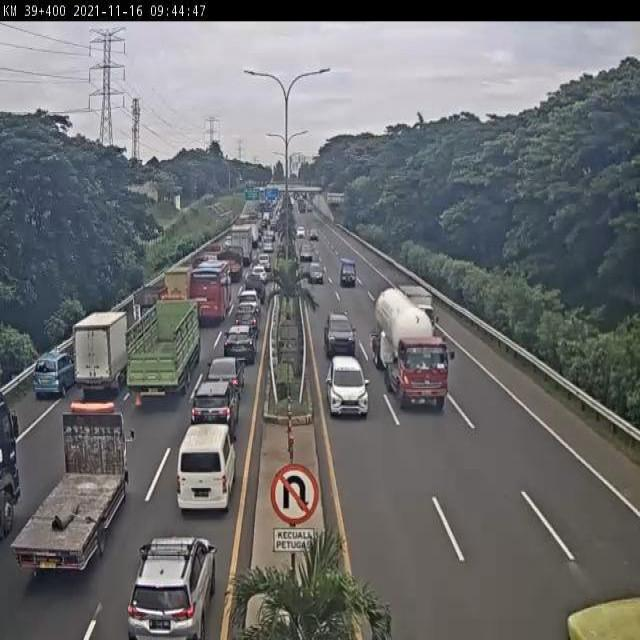big bus: (188, 259, 232, 321)
car: (122, 544, 215, 639), (174, 426, 234, 510), (188, 382, 236, 447), (326, 358, 369, 418), (35, 349, 76, 396), (205, 355, 246, 396), (323, 311, 357, 357), (223, 327, 255, 365), (232, 308, 259, 335), (236, 288, 261, 316)
small truck: (74, 312, 127, 399), (130, 280, 168, 320), (163, 263, 196, 309)
truck-l-: (124, 299, 198, 404)
truck-m-: (11, 404, 134, 575)
truck-xl-: (372, 284, 457, 412)
